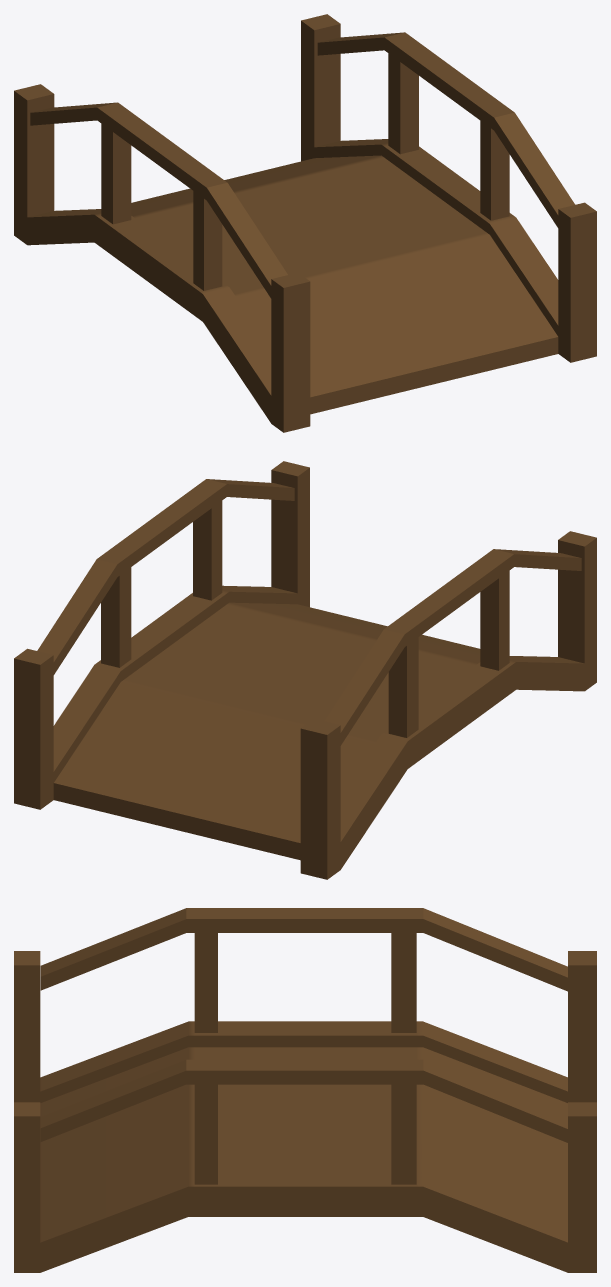
Rendered from bridge.fbx.
3 renders of one model, top to bottom at view 1: azimuth 30°, elevation 25°; view 2: azimuth 150°, elevation 25°; view 3: azimuth 270°, elevation 25°, orthographic. The views are drawn at different scales.
Visible parts, largest first — view 1: pCube1, pCube2, pCube3; view 2: pCube1, pCube2, pCube3; view 3: pCube1, pCube3, pCube2.
Part boxes in pixels (x1,y1,x2,y2): pCube1: (14, 14, 596, 432); pCube2: (30, 102, 287, 298); pCube3: (317, 32, 575, 227); pCube1: (14, 461, 596, 879); pCube2: (324, 549, 581, 745); pCube3: (37, 479, 294, 674); pCube1: (14, 933, 596, 1272); pCube3: (40, 1059, 567, 1142); pCube2: (40, 908, 567, 991).
Bounding box in the file's own units: 9.64 × 5.47 × 14.36.
